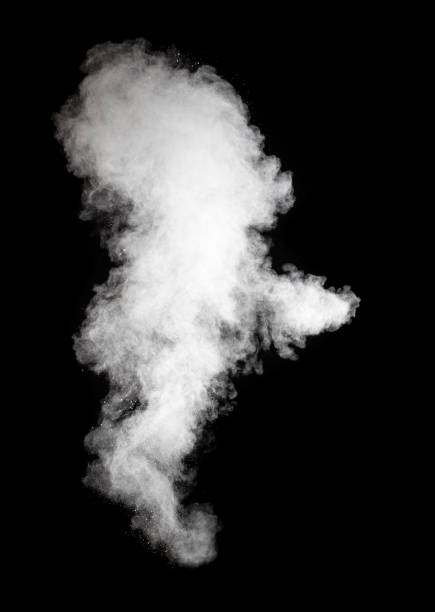smoke: (65, 37, 265, 569)
